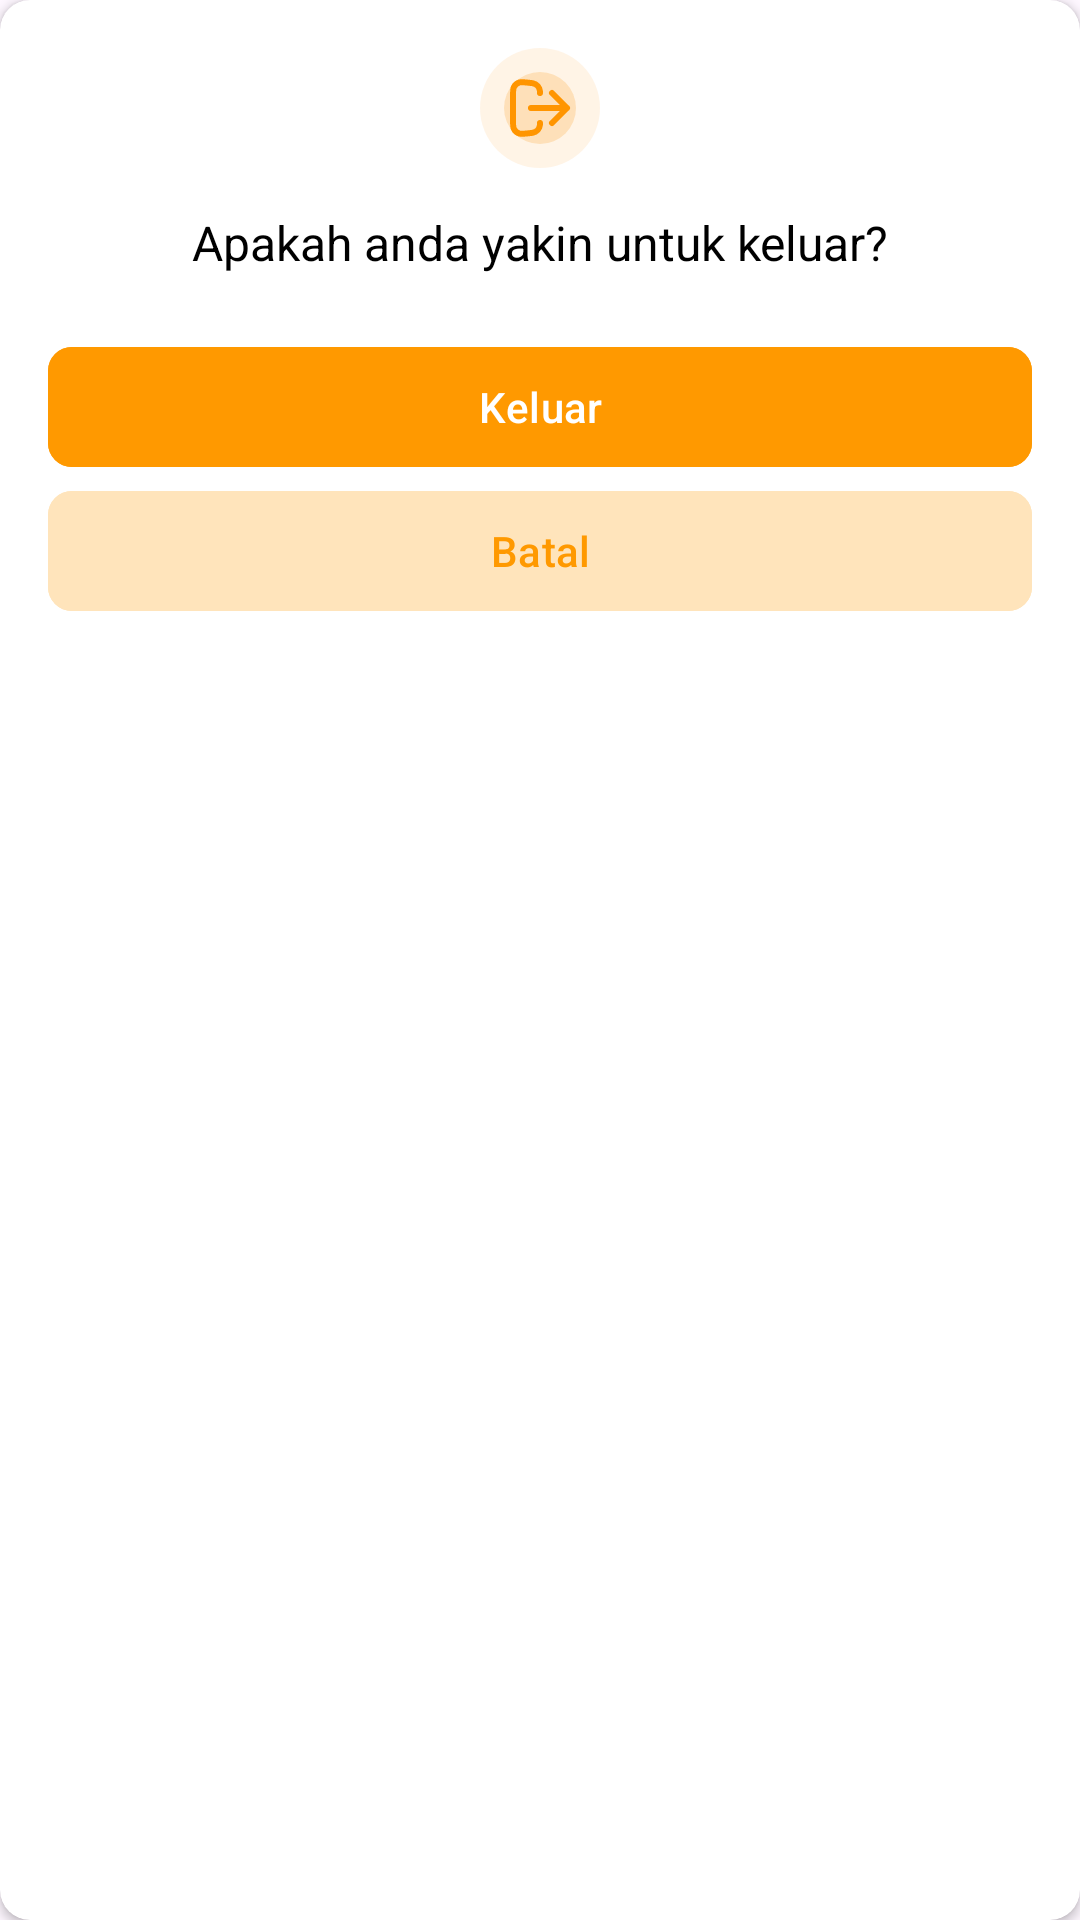

Icon click points for this 1080px×1920px phone screenshot, format (x=x, y=y):
exit: (x=540, y=108)
